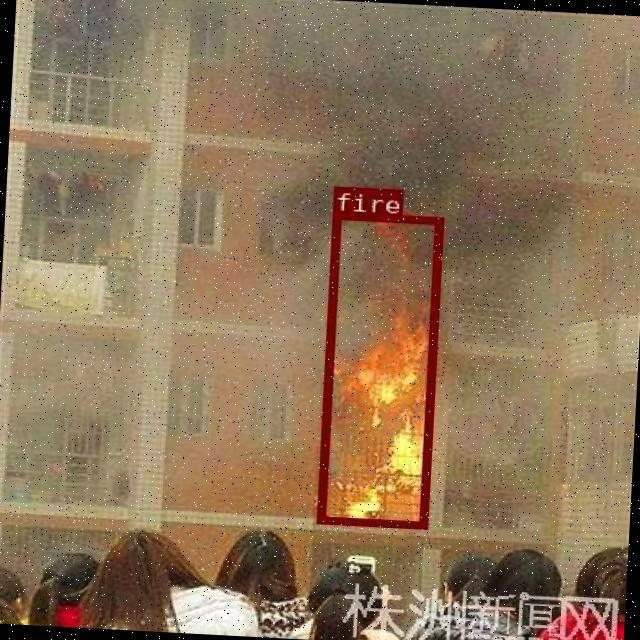fire: (315, 210, 442, 527)
